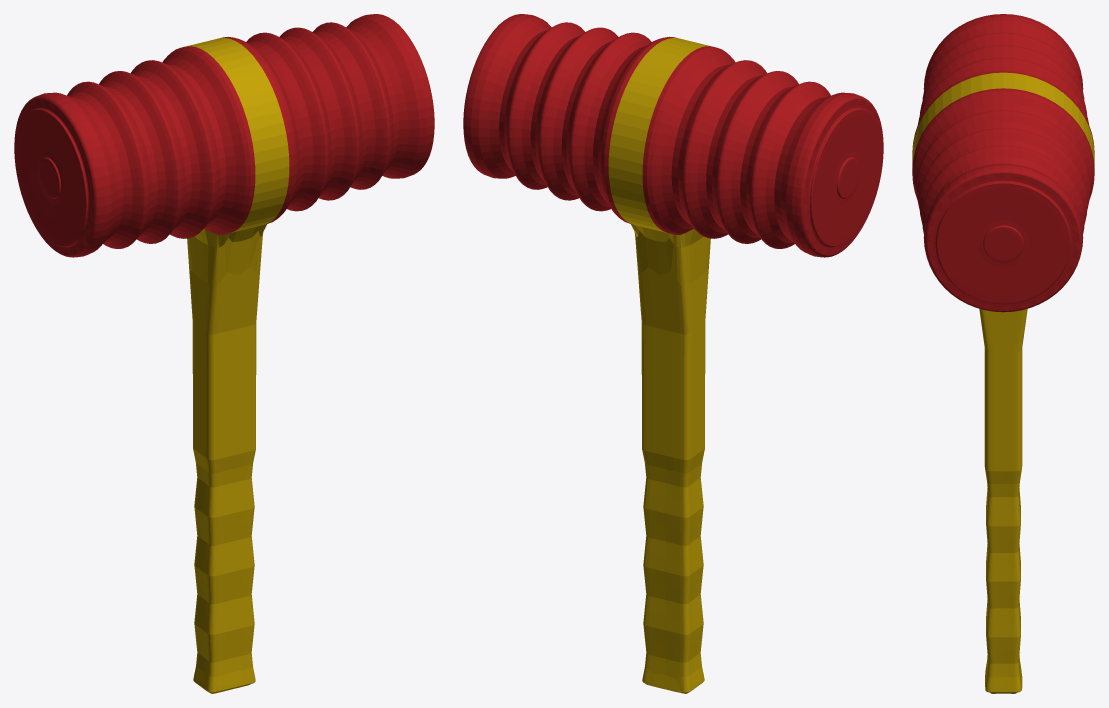
The model's file is pikopiko.fbx.
3 renders of one model, left to right at view 1: azimuth 30°, elevation 25°; view 2: azimuth 150°, elevation 25°; view 3: azimuth 270°, elevation 25°, orthographic. The views are drawn at different scales.
Parts seen in each view (by area): view 1: pikopiko; view 2: pikopiko; view 3: pikopiko.
Boxes of the visible parts, <box> form: pikopiko: <box>14,14,434,693</box>; pikopiko: <box>463,14,883,693</box>; pikopiko: <box>912,14,1094,693</box>.
Size of the model in its own units: 42.03 by 72.71 by 19.85.
